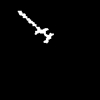double_crochet: (18, 11, 53, 42)
